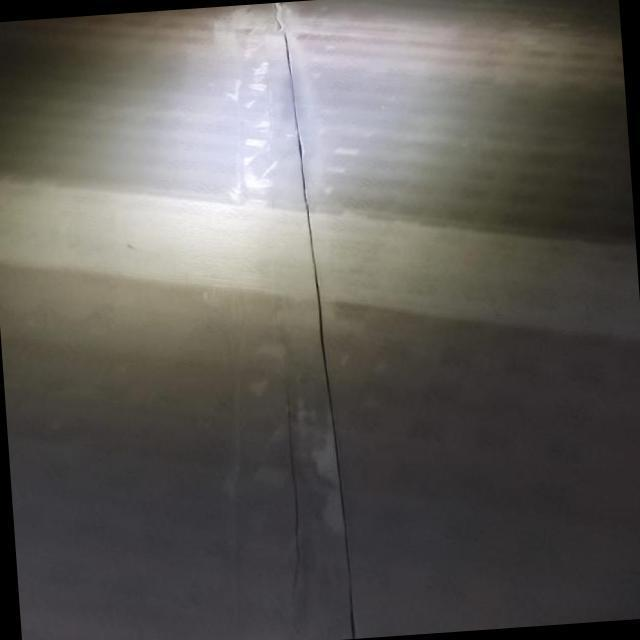Tear: (270, 0, 360, 637)
